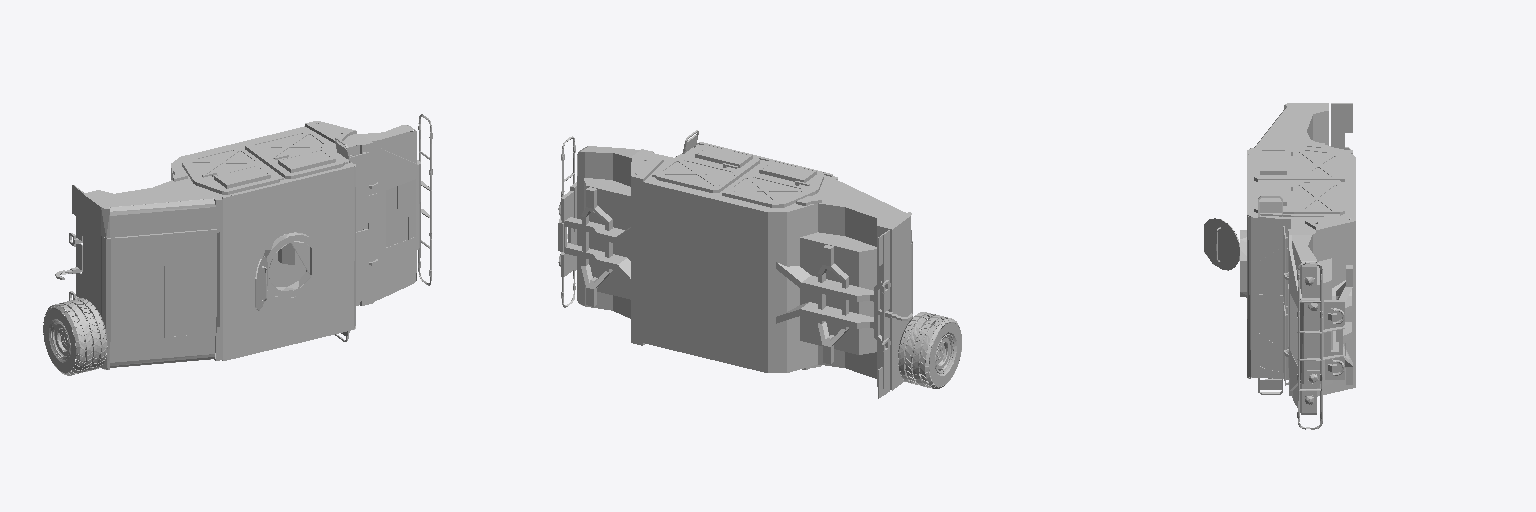
Rendered from hmmwv_chassis.obj.
The picture shows the model from 3 angles: view 1: azimuth 30°, elevation 25°; view 2: azimuth 150°, elevation 25°; view 3: azimuth 270°, elevation 25°; orthographic projection.
Parts seen in each view (by area): view 1: polySurface1; view 2: polySurface1; view 3: polySurface1.
Part boxes in pixels (x1,y1,x2,y2): polySurface1: (43,114,432,375); polySurface1: (558,130,961,398); polySurface1: (1204,103,1355,429).
Size of the model in its own units: 5.22 by 2.64 by 1.84.